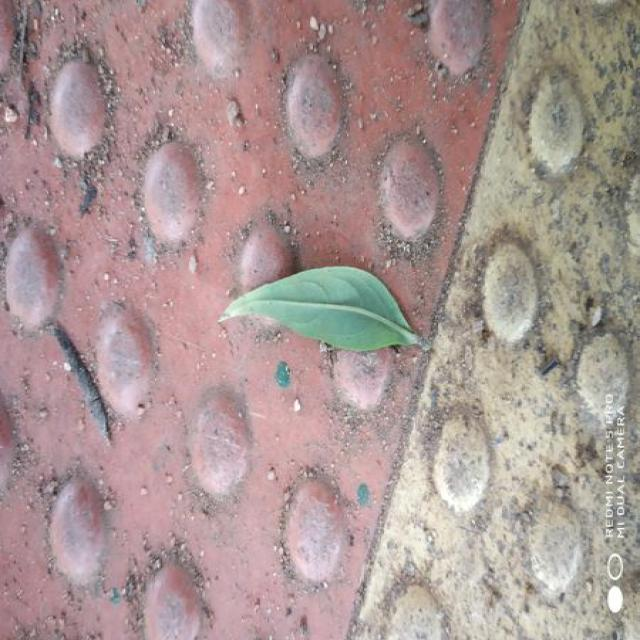Nelavembu: (218, 266, 425, 351)
